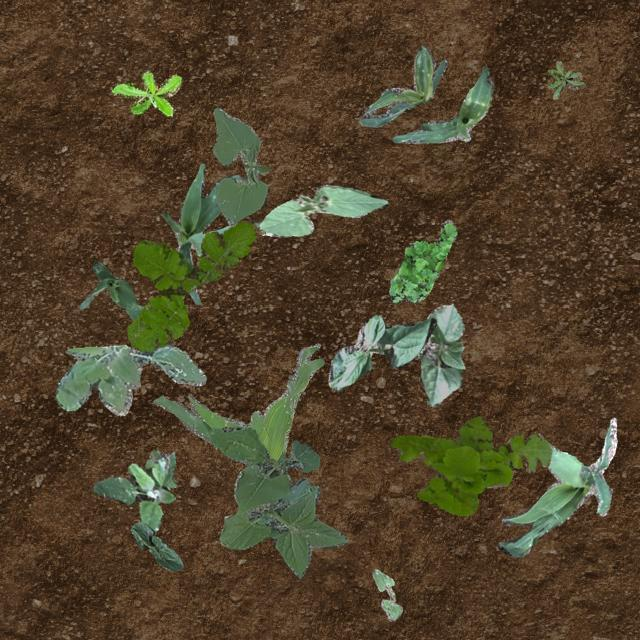crop: (497, 416, 615, 556), (160, 162, 246, 304), (326, 314, 436, 391), (77, 260, 172, 346), (392, 64, 492, 142), (358, 45, 447, 126), (212, 107, 270, 226), (256, 183, 386, 236), (414, 302, 464, 406), (130, 520, 182, 570), (371, 568, 402, 620)
weed: (208, 426, 346, 578), (150, 342, 324, 460), (126, 218, 260, 352), (388, 416, 550, 514), (54, 344, 206, 416), (92, 448, 176, 532), (388, 218, 456, 302), (110, 70, 180, 114), (546, 60, 584, 98)
